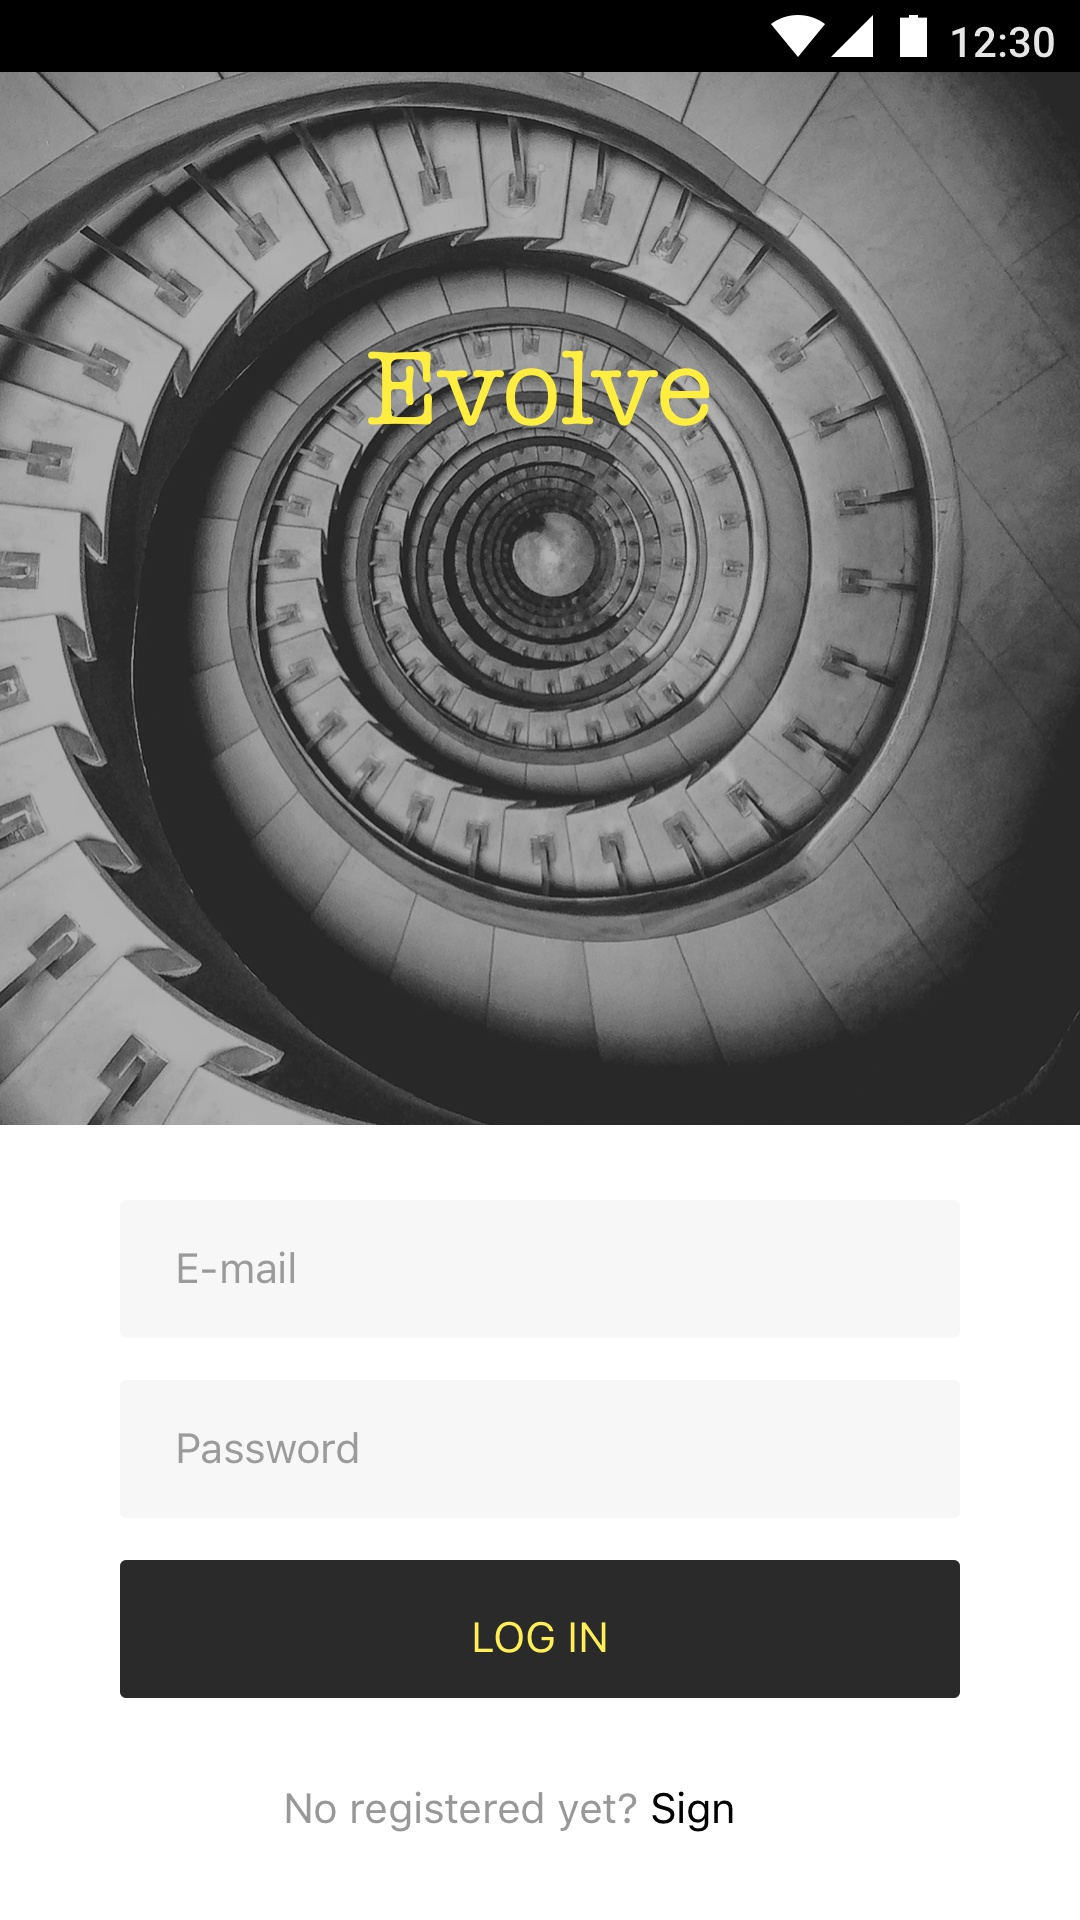EditText: (120, 1379, 961, 1519), (120, 1200, 961, 1338)
Image: (1, 73, 1080, 1126)
Text: (367, 349, 711, 429), (286, 1789, 735, 1833), (179, 1432, 359, 1465), (179, 1251, 295, 1284)
TextButton: (120, 1560, 961, 1698)
UpperTaskBar: (1, 1, 1080, 73)
